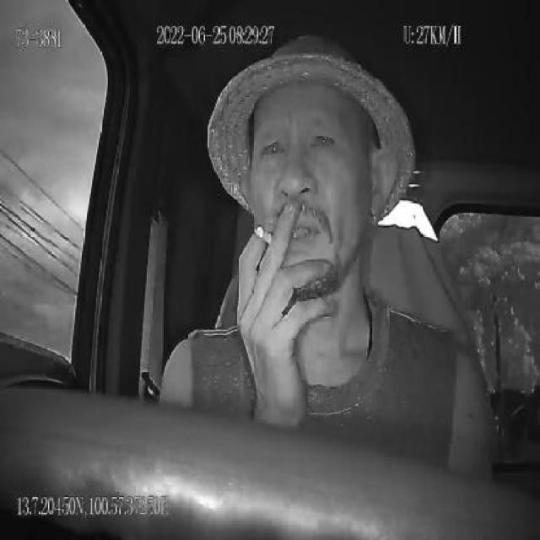smoking: (255, 224, 276, 248)
